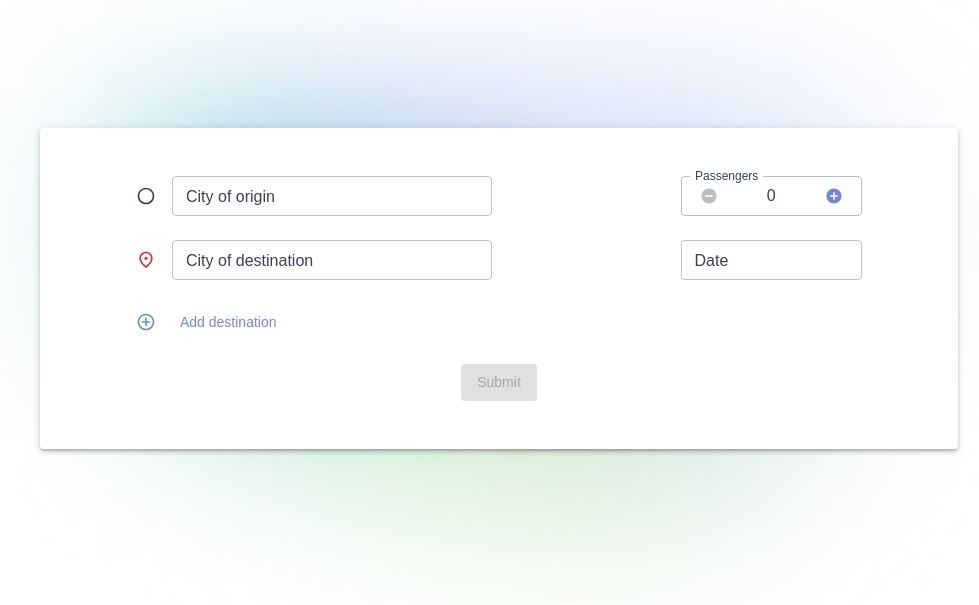
Test: Search Page › should be able to delete a destination
Click the button "Add destination": click(229, 323) [172, 304, 285, 341]
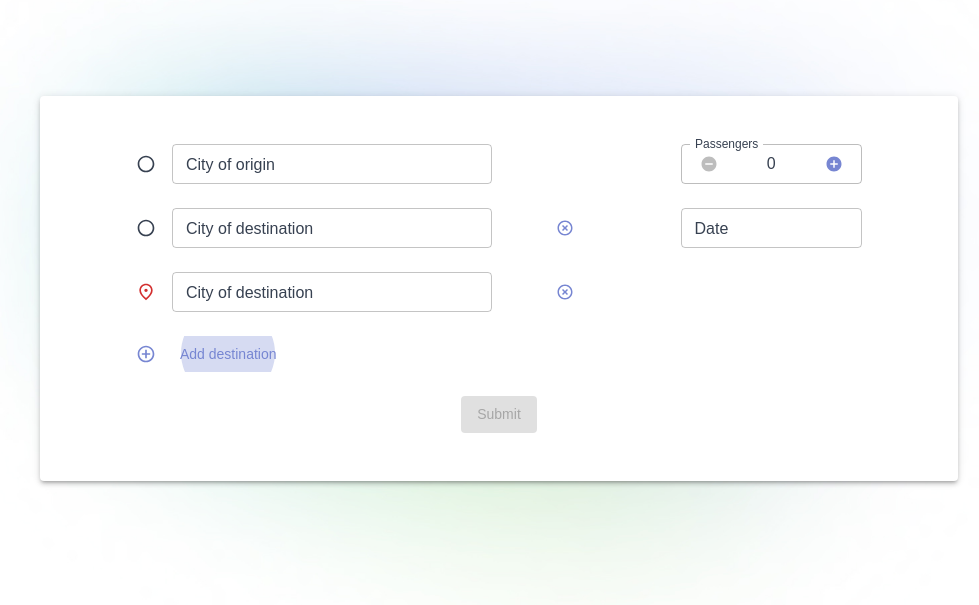
Expected: the field with id "destination-field-2" is shown, [172, 272, 492, 312]
Expected: the 2nd icon with test id "HighlightOffOutlinedIcon" is shown
Click the 2nd icon with test id "HighlightOffOutlinedIcon": click(565, 292) [556, 283, 574, 301]
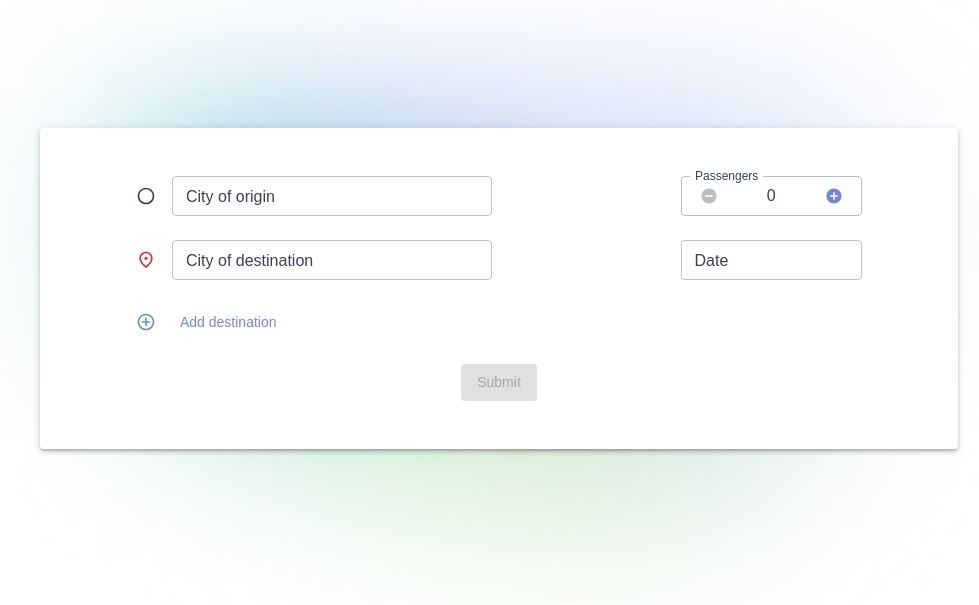
Expected: the label with id "destination-field-2" is gone
